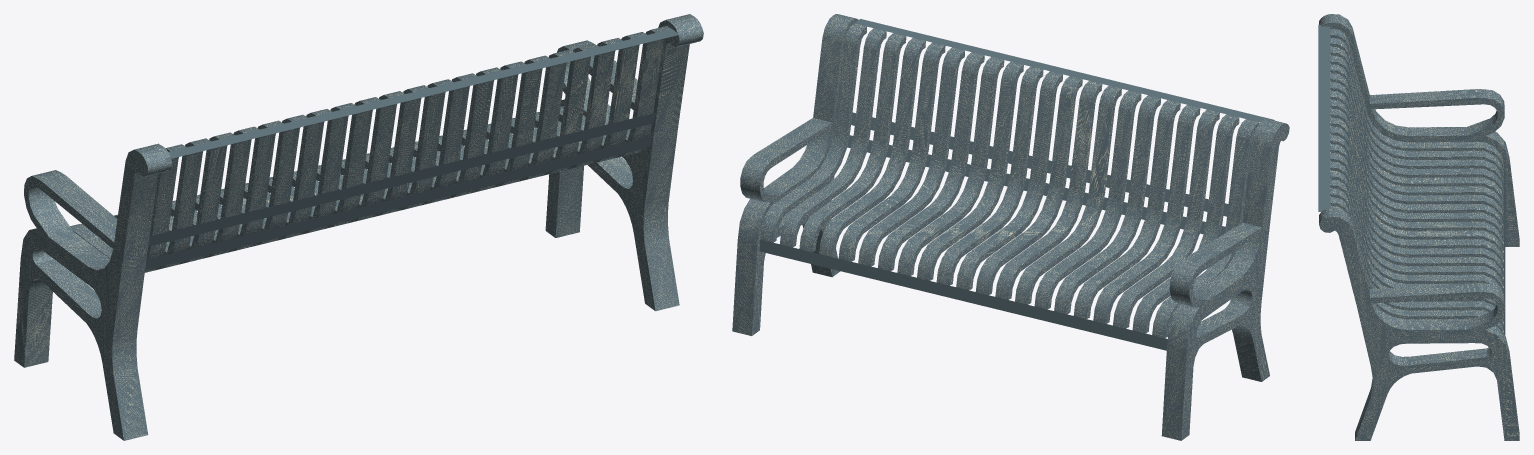
3 renders of one model, left to right at view 1: azimuth 30°, elevation 25°; view 2: azimuth 150°, elevation 25°; view 3: azimuth 270°, elevation 25°, orthographic. The views are drawn at different scales.
Parts seen in each view (by area): view 1: mesh1_mesh1-geometry, mesh2_mesh2-geometry, mesh9_mesh9-geometry, mesh8_mesh8-geometry, mesh7_mesh7-geometry; view 2: mesh1_mesh1-geometry, mesh2_mesh2-geometry, mesh6_mesh6-geometry, mesh7_mesh7-geometry, mesh8_mesh8-geometry, mesh9_mesh9-geometry; view 3: mesh1_mesh1-geometry, mesh2_mesh2-geometry, mesh7_mesh7-geometry, mesh6_mesh6-geometry.
Part boxes in pixels (x1,y1,x2,y2): mesh1_mesh1-geometry: [70, 26, 671, 272]; mesh2_mesh2-geometry: [14, 14, 703, 440]; mesh9_mesh9-geometry: [148, 112, 655, 246]; mesh8_mesh8-geometry: [145, 136, 652, 269]; mesh7_mesh7-geometry: [165, 29, 679, 159]; mesh1_mesh1-geometry: [760, 23, 1258, 337]; mesh2_mesh2-geometry: [732, 14, 1289, 440]; mesh6_mesh6-geometry: [759, 239, 1167, 350]; mesh7_mesh7-geometry: [854, 19, 1274, 122]; mesh8_mesh8-geometry: [847, 135, 1225, 236]; mesh9_mesh9-geometry: [851, 112, 1228, 216]; mesh1_mesh1-geometry: [1330, 29, 1503, 333]; mesh2_mesh2-geometry: [1319, 14, 1519, 440]; mesh7_mesh7-geometry: [1318, 24, 1330, 211]; mesh6_mesh6-geometry: [1504, 163, 1505, 335].
Size of the model in its own units: 0.8331 by 0.4292 by 0.3489.
